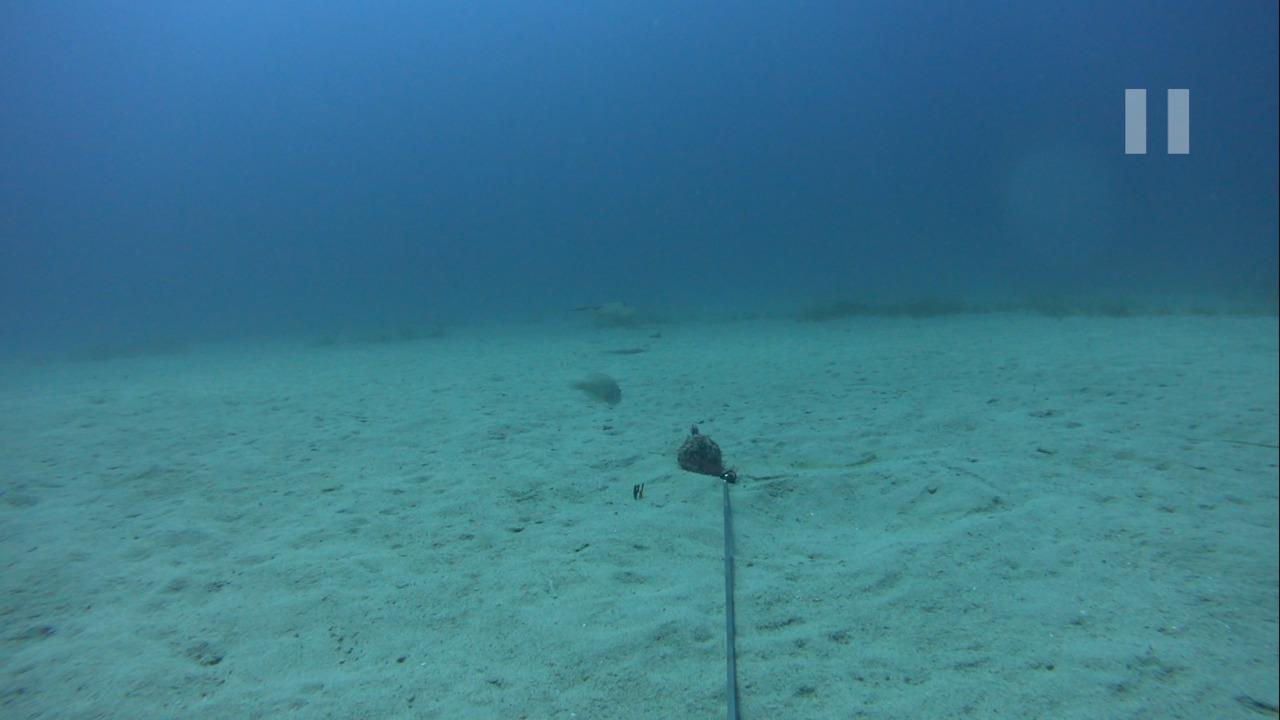myliobatis: (540, 297, 653, 329)
raor: (562, 368, 623, 412)
